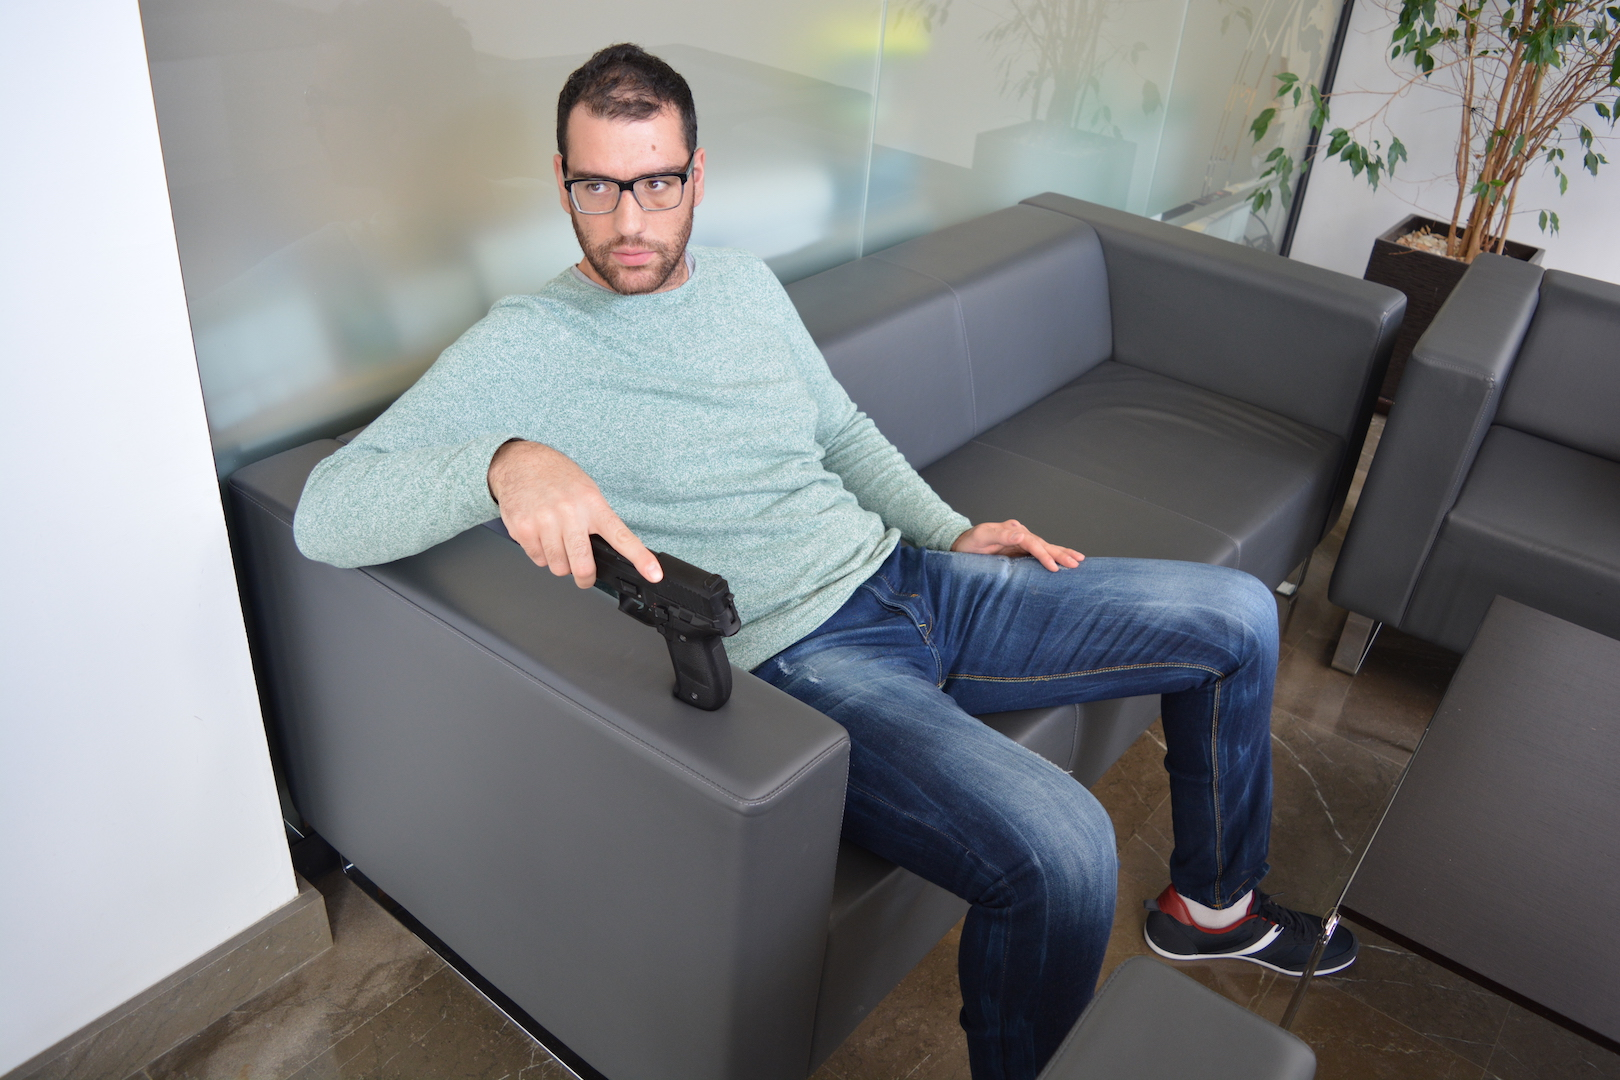pistol: (587, 532, 742, 714)
